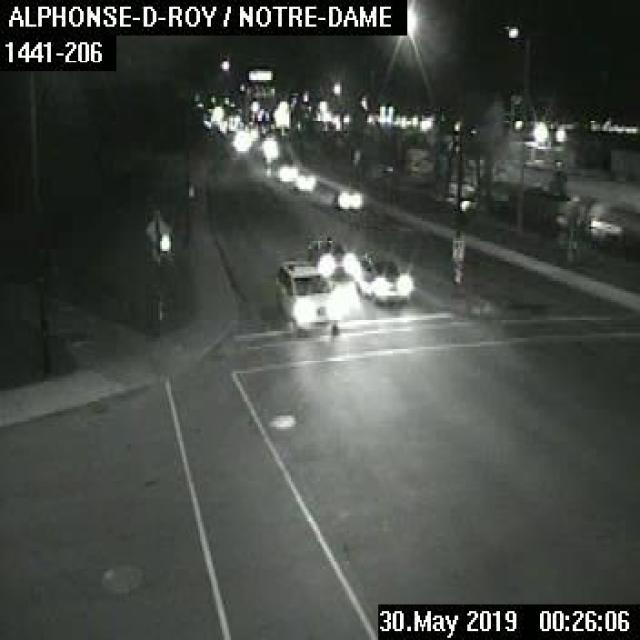vehicle: (269, 255, 343, 338), (357, 248, 412, 308), (300, 230, 361, 282), (333, 189, 362, 209), (275, 160, 300, 183), (290, 171, 315, 193)
